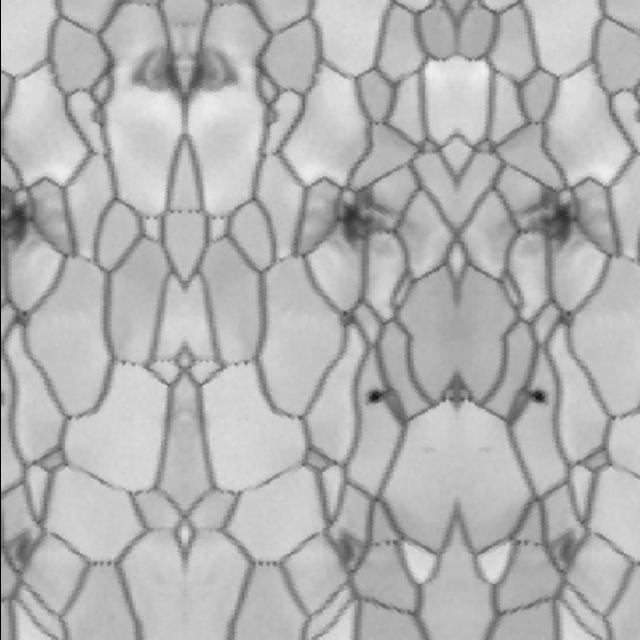good_void: (294, 182, 402, 274), (509, 182, 617, 274), (0, 182, 72, 274), (187, 48, 239, 101), (127, 48, 179, 101), (326, 528, 367, 572), (0, 528, 40, 572), (545, 528, 585, 572), (355, 383, 390, 408), (522, 383, 556, 408), (0, 385, 11, 404), (522, 538, 530, 548), (371, 540, 380, 548), (382, 538, 389, 548), (532, 540, 540, 548), (389, 537, 395, 546), (516, 537, 522, 546)
